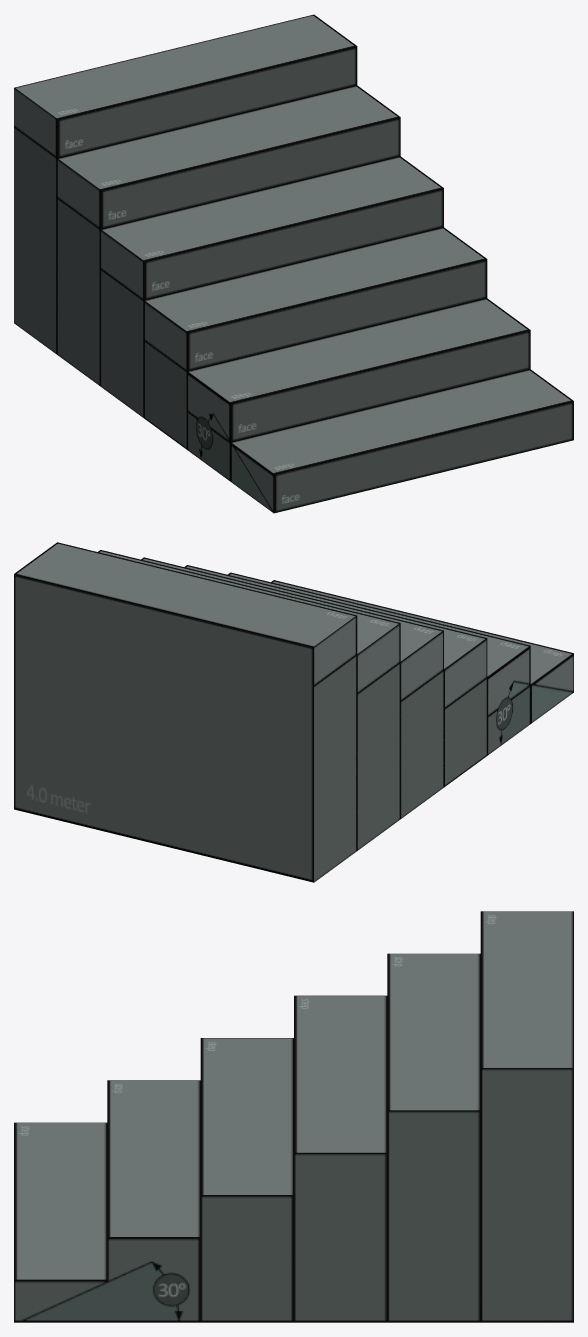
Rendered from Stairs_30_03.fbx.
The picture shows the model from 3 angles, top to bottom: view 1: azimuth 30°, elevation 25°; view 2: azimuth 150°, elevation 25°; view 3: azimuth 270°, elevation 25°; orthographic projection. The views are drawn at different scales.
Visible parts, largest first — view 1: Stairs_30_03; view 2: Stairs_30_03; view 3: Stairs_30_03.
Part boxes in pixels (x1,y1,x2,y2): Stairs_30_03: [14, 14, 573, 513]; Stairs_30_03: [14, 542, 573, 882]; Stairs_30_03: [14, 911, 573, 1322].
Size of the model in its own units: 4 by 3 by 6.
